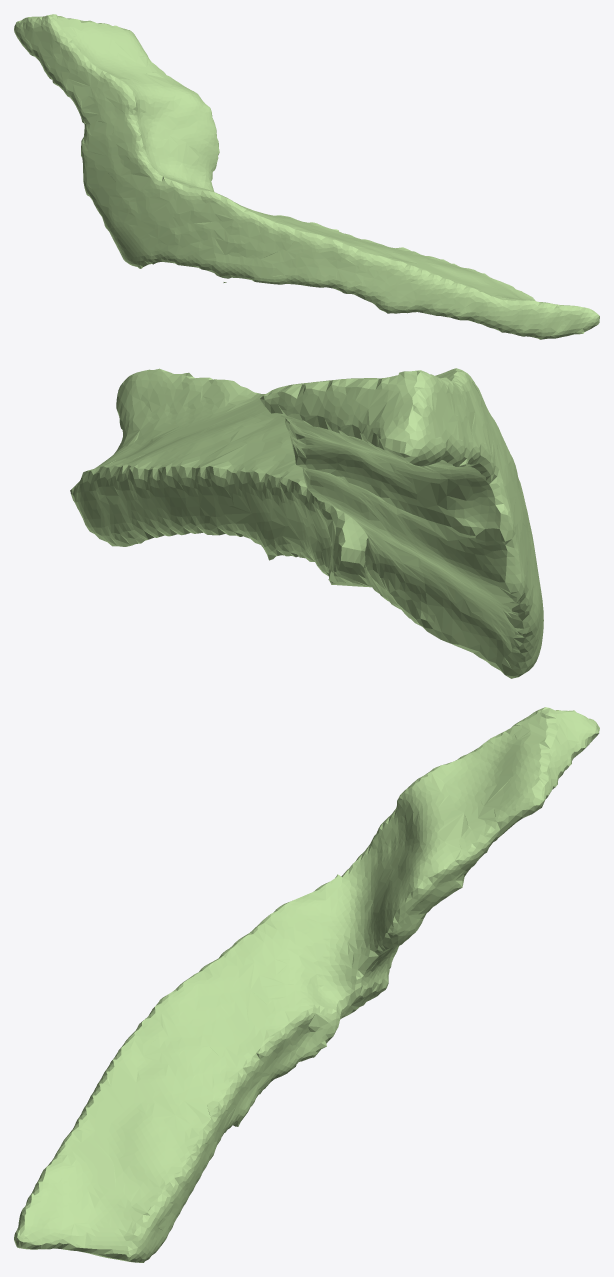
The model's file is Model_10028_LH__Areas_1_and_2_of_cortex_(A1_2).obj.
3 renders of one model, top to bottom at view 1: azimuth 30°, elevation 25°; view 2: azimuth 150°, elevation 25°; view 3: azimuth 270°, elevation 25°, orthographic. The views are drawn at different scales.
Size of the model in its own units: 8.09 by 5.7 by 8.57.
